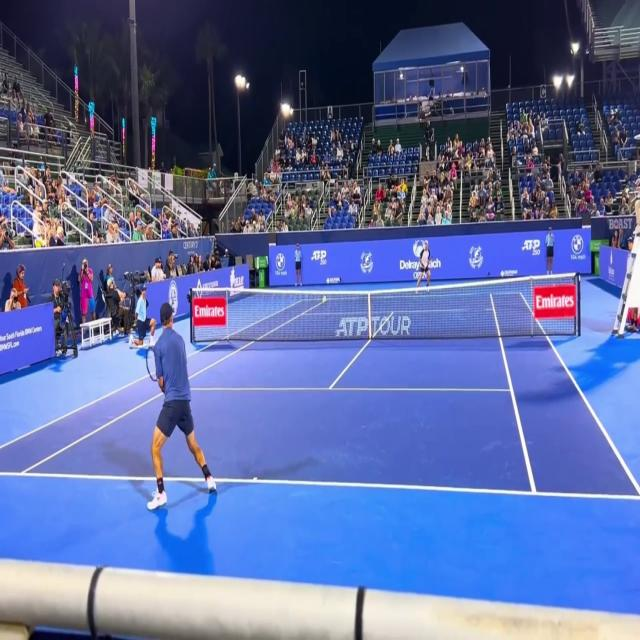tennisBall: (320, 291, 331, 312)
